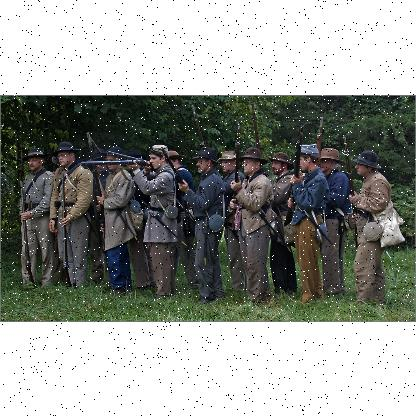gun: (342, 134, 356, 246), (313, 114, 325, 168)
